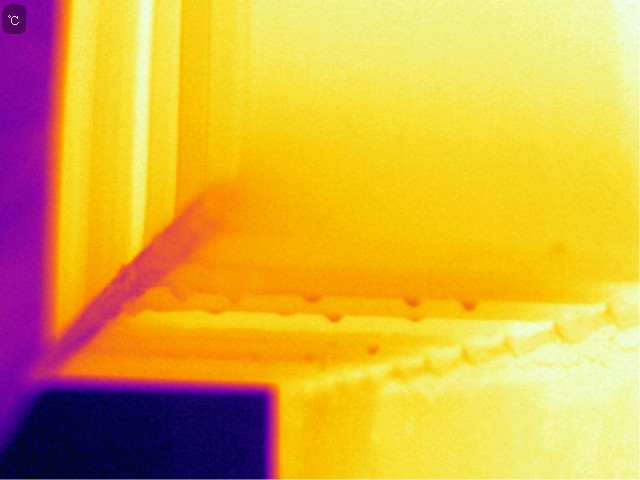Oil: (167, 281, 199, 301), (224, 280, 245, 309), (455, 298, 478, 313), (400, 295, 426, 308), (325, 311, 345, 326), (207, 303, 227, 317), (406, 314, 435, 323), (304, 292, 323, 303), (369, 341, 377, 355)
